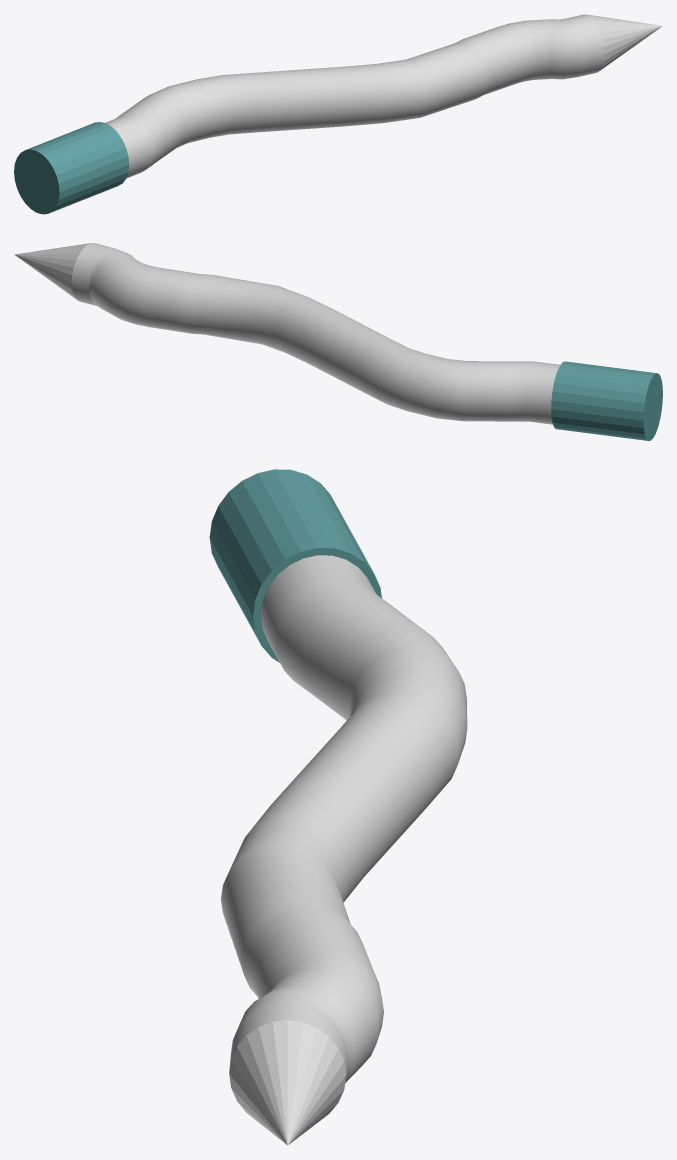
File: Джгутик.obj
3 renders of one model, top to bottom at view 1: azimuth 30°, elevation 25°; view 2: azimuth 150°, elevation 25°; view 3: azimuth 270°, elevation 25°, orthographic. The views are drawn at different scales.
Visible parts, largest first — view 1: Mesh1 Model; view 2: Mesh1 Model; view 3: Mesh1 Model.
Boxes of the visible parts, box(x1,y1,x2,y2) form: Mesh1 Model: box(14, 14, 662, 214); Mesh1 Model: box(14, 243, 662, 440); Mesh1 Model: box(209, 469, 467, 1145).
Size of the model in its own units: 271 by 25.2 by 47.63.
